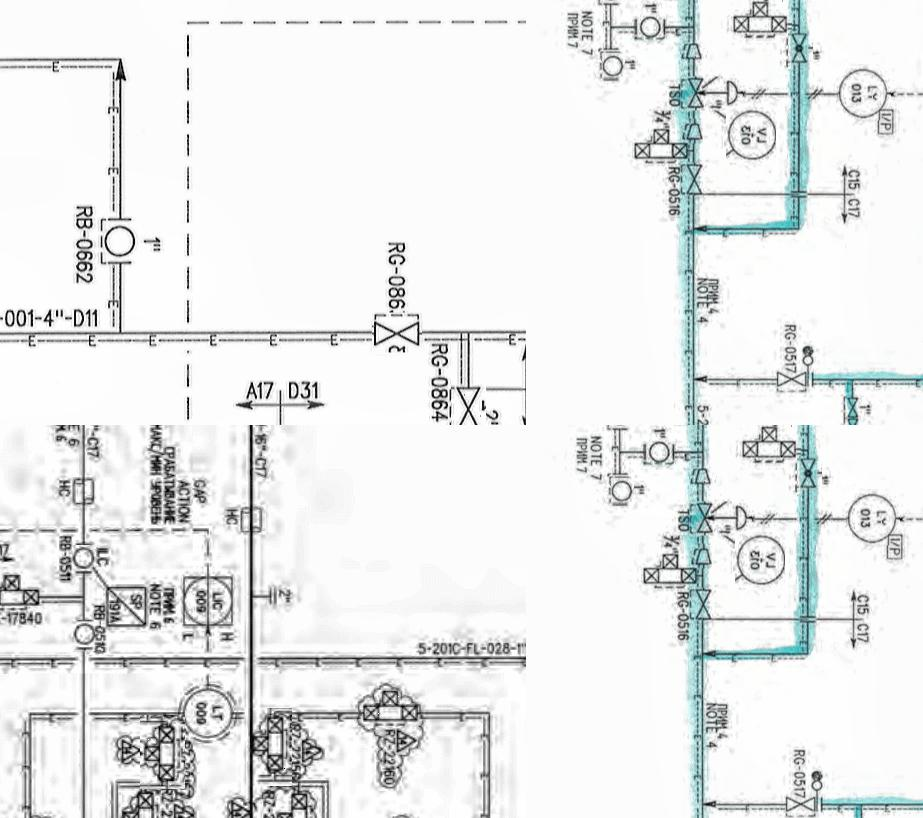2 WAY VALVE: (247, 708, 291, 786), (137, 715, 183, 789), (356, 683, 427, 729), (726, 0, 790, 36), (735, 425, 799, 461), (638, 550, 696, 586), (630, 125, 686, 160), (0, 574, 43, 614), (273, 782, 317, 818), (117, 791, 158, 818)
CONCENTRIC REDUCER: (680, 40, 706, 68), (689, 466, 715, 492), (692, 542, 712, 568), (682, 118, 702, 142)
DCS ACCESSIBLE: (180, 568, 238, 633)
DIAPHRAGM ACTUATED VALVE: (684, 76, 742, 110), (694, 501, 750, 535)
DUPLEX RECEPTACLE: (69, 475, 96, 510), (239, 504, 266, 538)
END FLANGED: (262, 582, 283, 610)
FIELD INSTRUMENT: (177, 677, 245, 748), (732, 532, 784, 589), (836, 66, 890, 120), (724, 107, 774, 164), (846, 492, 898, 546), (98, 220, 138, 270), (68, 620, 99, 652), (64, 546, 96, 576), (644, 436, 674, 462), (596, 50, 624, 76), (604, 476, 632, 502), (634, 12, 664, 36)
GATE VALVE: (370, 314, 420, 354), (449, 383, 484, 425), (772, 370, 809, 390), (782, 795, 818, 815), (682, 162, 702, 195), (692, 587, 712, 620), (843, 391, 863, 420), (843, 420, 862, 425)
GLOBE VALVE: (796, 455, 822, 495), (788, 30, 812, 70)
IP CONVERTER: (872, 106, 898, 140), (882, 532, 908, 566)
REVISION TRIANGLE: (111, 738, 145, 766)
SPECIAL PIPING ITEM: (100, 580, 149, 634)
SPECTACLE BLIND OPEN: (800, 340, 818, 388), (809, 765, 827, 813)
